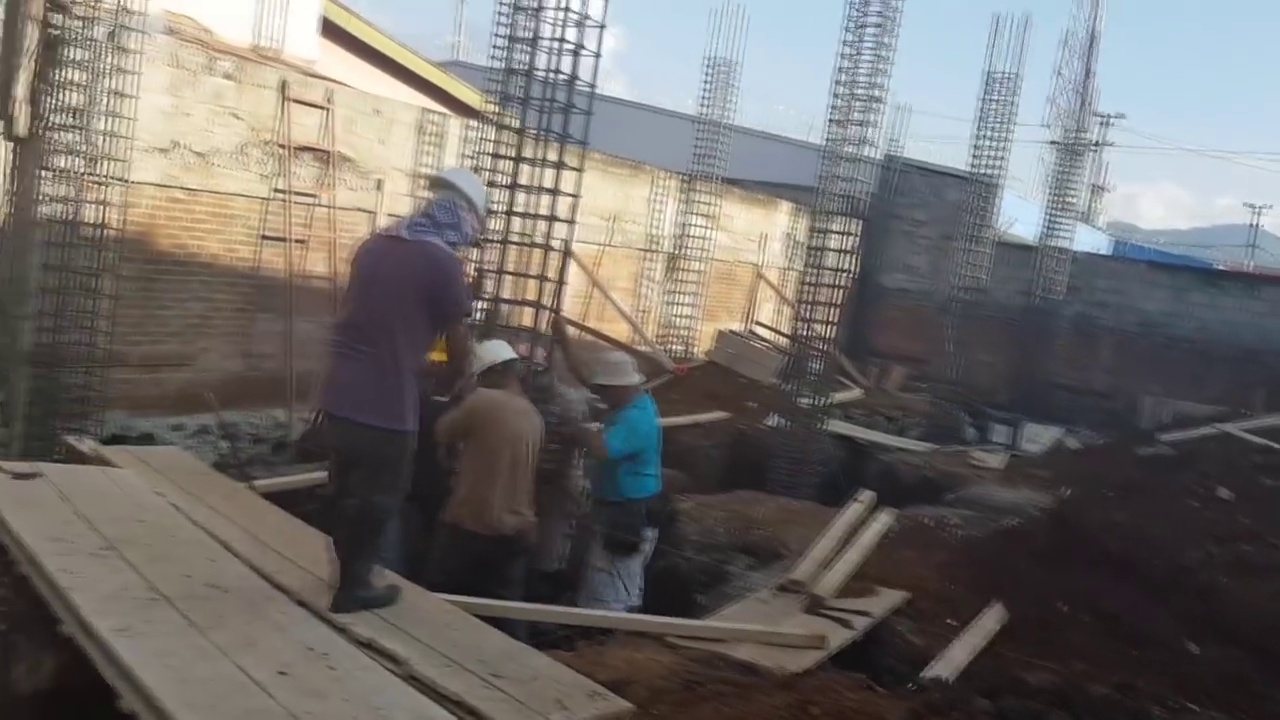helmet: (428, 166, 487, 223), (473, 338, 518, 376)
helmet-off: (587, 351, 647, 411)
helmet-on: (416, 165, 488, 253), (473, 336, 527, 398)
person: (315, 162, 486, 617), (550, 313, 665, 614), (435, 333, 542, 594)
